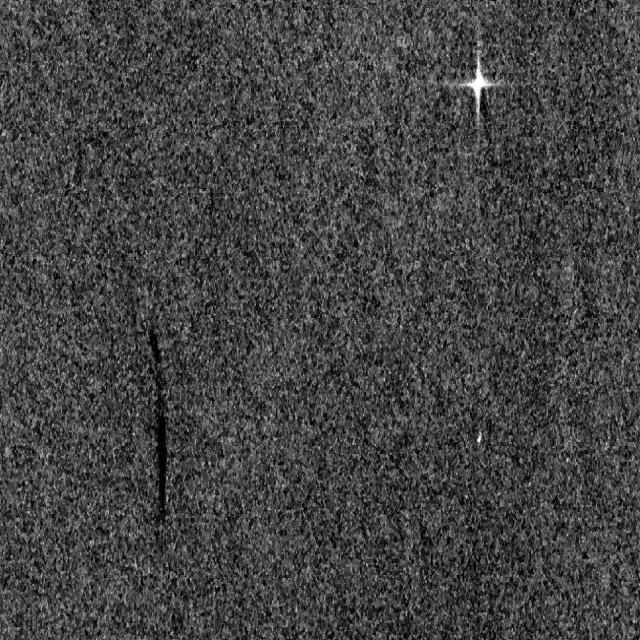oil-spill: (134, 314, 188, 534), (476, 87, 493, 143)
ship: (460, 53, 492, 122)
